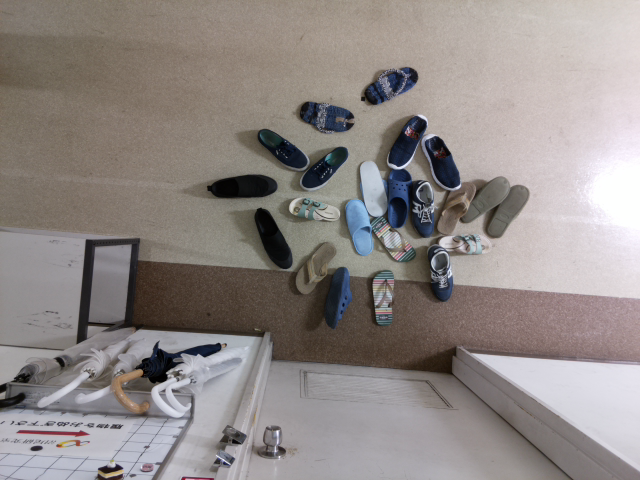Copy of Copy of Copy of Copy of Copy of Copy of Copy of Copy of Copy of Copy of: (365, 198, 420, 267), (288, 235, 343, 301), (428, 174, 482, 241), (452, 168, 512, 227), (295, 138, 357, 195), (482, 178, 533, 241), (337, 190, 380, 263), (353, 151, 394, 224), (376, 162, 417, 235), (403, 174, 443, 247), (284, 188, 346, 232), (431, 229, 507, 262)
Copy of Copy of Copy of Copy of Copy of Copy of Copy of Copy of Copy of shoe: (319, 262, 359, 331)
Copy of Copy of Copy of Copy of Copy of Copy of Copy of Copy of shoe: (420, 237, 460, 306)
Copy of Copy of Copy of Copy of Copy of Copy of Copy of shoe: (363, 265, 403, 334)
Copy of Copy of Copy of Copy of Copy of Copy of shoe: (249, 201, 301, 271)
Copy of Copy of Copy of Copy of Copy of shoe: (1, 321, 146, 411), (418, 130, 468, 193)
Copy of Copy of Copy of Copy of shoe: (32, 325, 151, 413), (379, 108, 429, 171)
Copy of Copy of Copy of shoe: (69, 323, 177, 414), (354, 63, 422, 107)
Copy of Copy of shoe: (102, 337, 231, 418), (291, 95, 361, 137)
Copy of shoe: (164, 345, 258, 421), (248, 123, 315, 176)
shoe: (145, 337, 261, 420), (204, 170, 281, 201)
